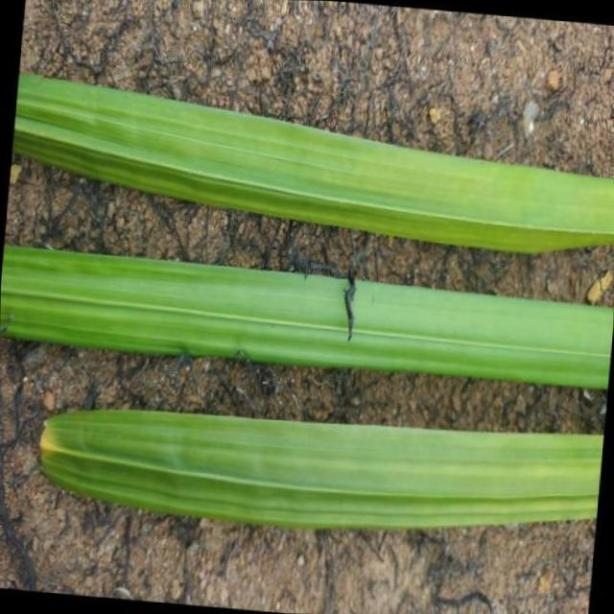nitrogen: (11, 69, 614, 257), (0, 240, 614, 392), (31, 408, 614, 525)
